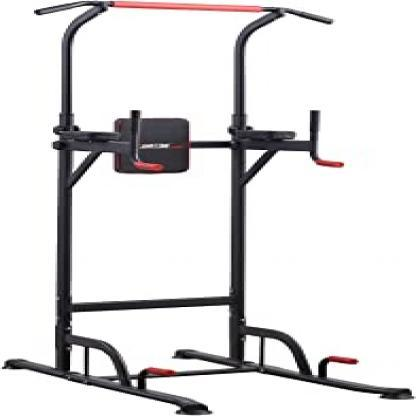chinning dipping: (33, 1, 359, 414)
